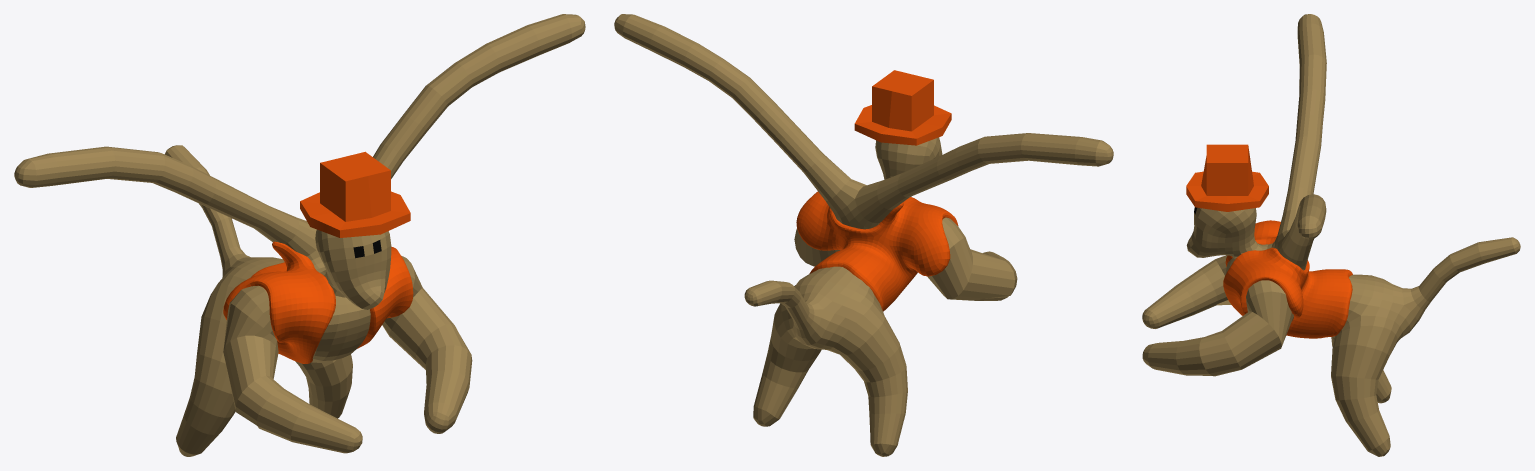
The model's file is MonkeyPose3.fbx.
The picture shows the model from 3 angles, left to right: view 1: azimuth 30°, elevation 25°; view 2: azimuth 150°, elevation 25°; view 3: azimuth 270°, elevation 25°; orthographic projection. The views are drawn at different scales.
Visible parts, largest first — view 1: MonkeyV2_1_Group55566, vest_Group43997, pCube3; view 2: MonkeyV2_1_Group55566, vest_Group43997, pCube3; view 3: MonkeyV2_1_Group55566, vest_Group43997, pCube3.
Boxes of the visible parts, <box> form: MonkeyV2_1_Group55566: <box>14,14,585,456</box>; vest_Group43997: <box>223,241,413,363</box>; pCube3: <box>300,151,410,237</box>; MonkeyV2_1_Group55566: <box>614,14,1113,456</box>; vest_Group43997: <box>796,191,958,311</box>; pCube3: <box>854,70,951,145</box>; MonkeyV2_1_Group55566: <box>1142,14,1520,456</box>; vest_Group43997: <box>1223,220,1352,338</box>; pCube3: <box>1186,144,1268,211</box>.
Bounding box in the file's own units: 11.91 × 7.84 × 8.43.
